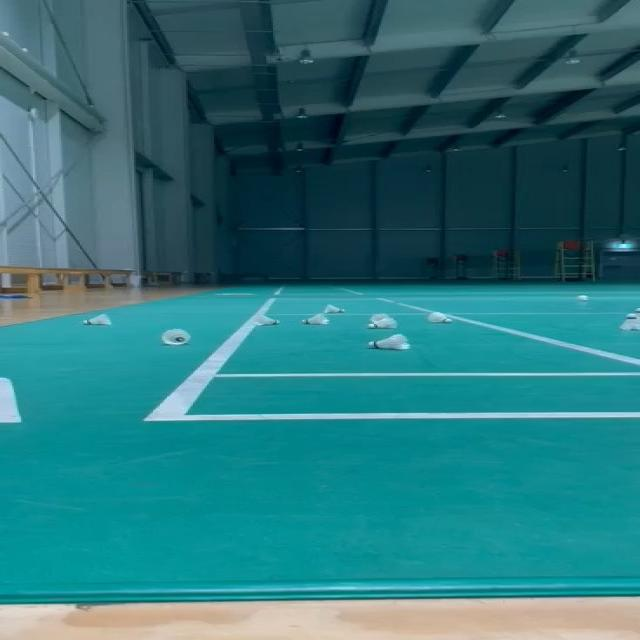Shuttle: (366, 333, 409, 351), (161, 328, 191, 346), (82, 313, 112, 326), (619, 313, 640, 331), (367, 317, 397, 329), (300, 313, 329, 325), (254, 314, 280, 326), (427, 312, 452, 324), (324, 304, 345, 314), (370, 313, 390, 323), (633, 308, 640, 324), (577, 294, 588, 302)
